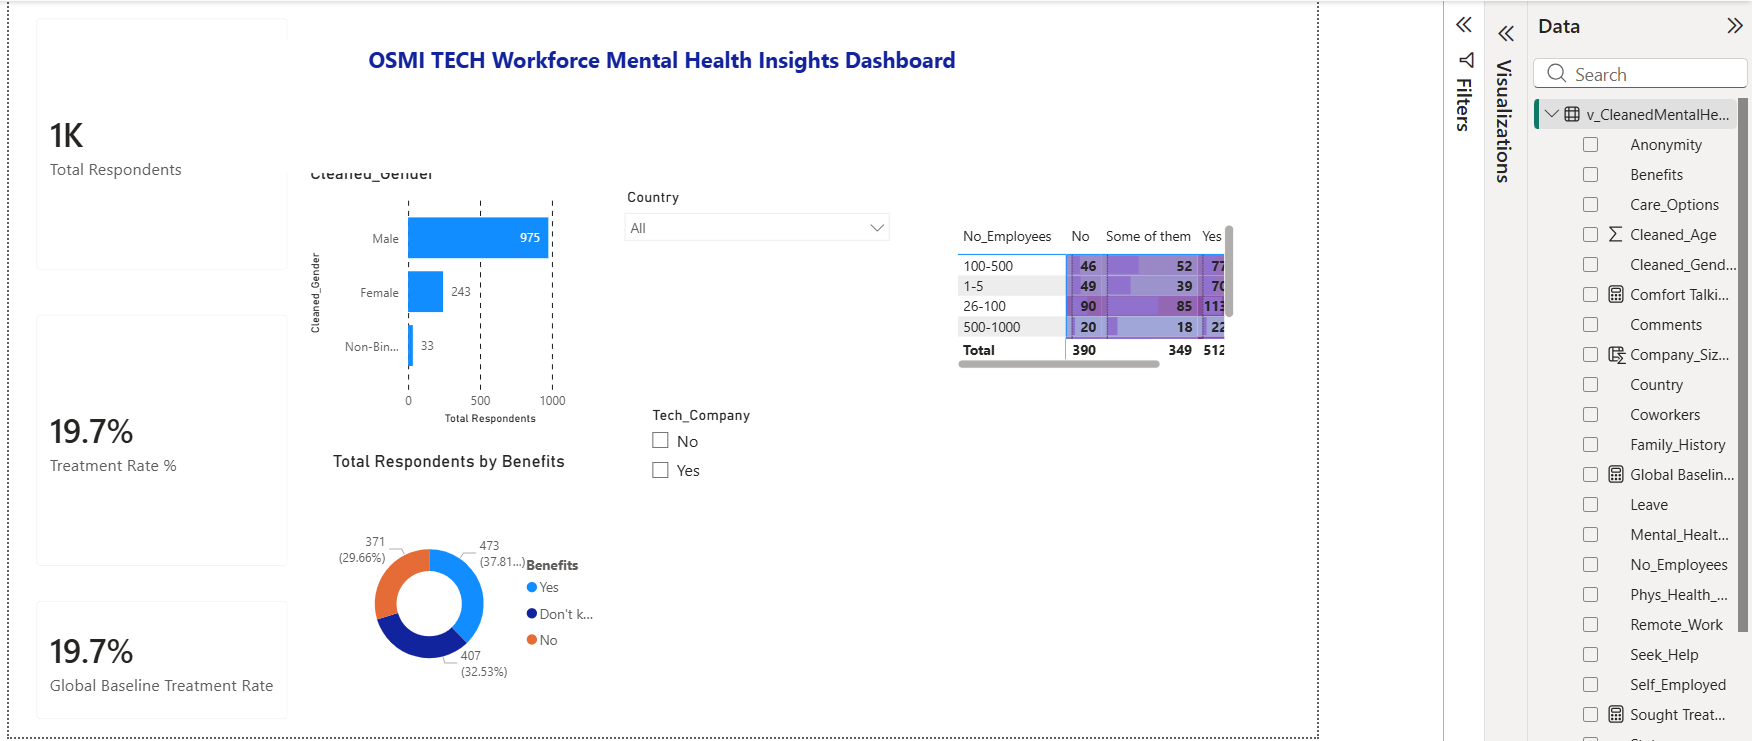

What the dashboard file says about the page in this screenshot:
{"tool":"powerbi","page":{"name":"Page 1","canvas":[1280,720],"ordinal":0},"visuals":[{"type":"cardVisual","fields":{"Data":["v_CleanedMentalHealthData.Total Respondents"]},"box":[10,0,280,280],"z":0},{"type":"cardVisual","fields":{"Data":["v_CleanedMentalHealthData.Treatment Rate %"]},"box":[10,290,280,280],"z":1},{"type":"cardVisual","fields":{"Data":["v_CleanedMentalHealthData.Global Baseline Treatment Rate"]},"box":[10,570,280,150],"z":2},{"type":"clusteredBarChart","fields":{"Category":["v_CleanedMentalHealthData.Cleaned_Gender"],"Y":["v_CleanedMentalHealthData.Total Respondents"]},"box":[289.5,140,279.9,279.9],"z":3},{"type":"donutChart","fields":{"Category":["v_CleanedMentalHealthData.Benefits"],"Y":["v_CleanedMentalHealthData.Total Respondents"]},"box":[311.5,440.5,279.9,279.9],"z":4},{"type":"slicer","fields":{"Values":["v_CleanedMentalHealthData.Country"]},"box":[591.4,178.4,279.9,150.9],"z":5},{"type":"slicer","fields":{"Values":["v_CleanedMentalHealthData.Tech_Company"]},"box":[616.1,391.1,279.9,279.9],"z":6},{"type":"pivotTable","fields":{"Rows":["v_CleanedMentalHealthData.No_Employees"],"Columns":["v_CleanedMentalHealthData.Supervisor"],"Values":["v_CleanedMentalHealthData.Total Respondents"]},"box":[923.5,214.1,279.9,150.9],"z":7},{"type":"textbox","box":[172.9,38.4,933.1,130.4],"z":8}]}

Visuals, with their boxes on the page's 1280x720 design canvas (x1, y1, x2, y2). These are canvas units, not pixel positions in the 1752x741 screenshot, which may show the page scaled, cropped or inside an application window:
cardVisual - v_CleanedMentalHealthData.Total Respondents: [x1=10, y1=0, x2=290, y2=280]
cardVisual - v_CleanedMentalHealthData.Treatment Rate %: [x1=10, y1=290, x2=290, y2=570]
cardVisual - v_CleanedMentalHealthData.Global Baseline Treatment Rate: [x1=10, y1=570, x2=290, y2=720]
clusteredBarChart - v_CleanedMentalHealthData.Cleaned_Gender x v_CleanedMentalHealthData.Total Respondents: [x1=290, y1=140, x2=569, y2=420]
donutChart - v_CleanedMentalHealthData.Benefits x v_CleanedMentalHealthData.Total Respondents: [x1=312, y1=440, x2=591, y2=720]
slicer - v_CleanedMentalHealthData.Country: [x1=591, y1=178, x2=871, y2=329]
slicer - v_CleanedMentalHealthData.Tech_Company: [x1=616, y1=391, x2=896, y2=671]
pivotTable - v_CleanedMentalHealthData.No_Employees x v_CleanedMentalHealthData.Supervisor: [x1=924, y1=214, x2=1203, y2=365]
textbox: [x1=173, y1=38, x2=1106, y2=169]
